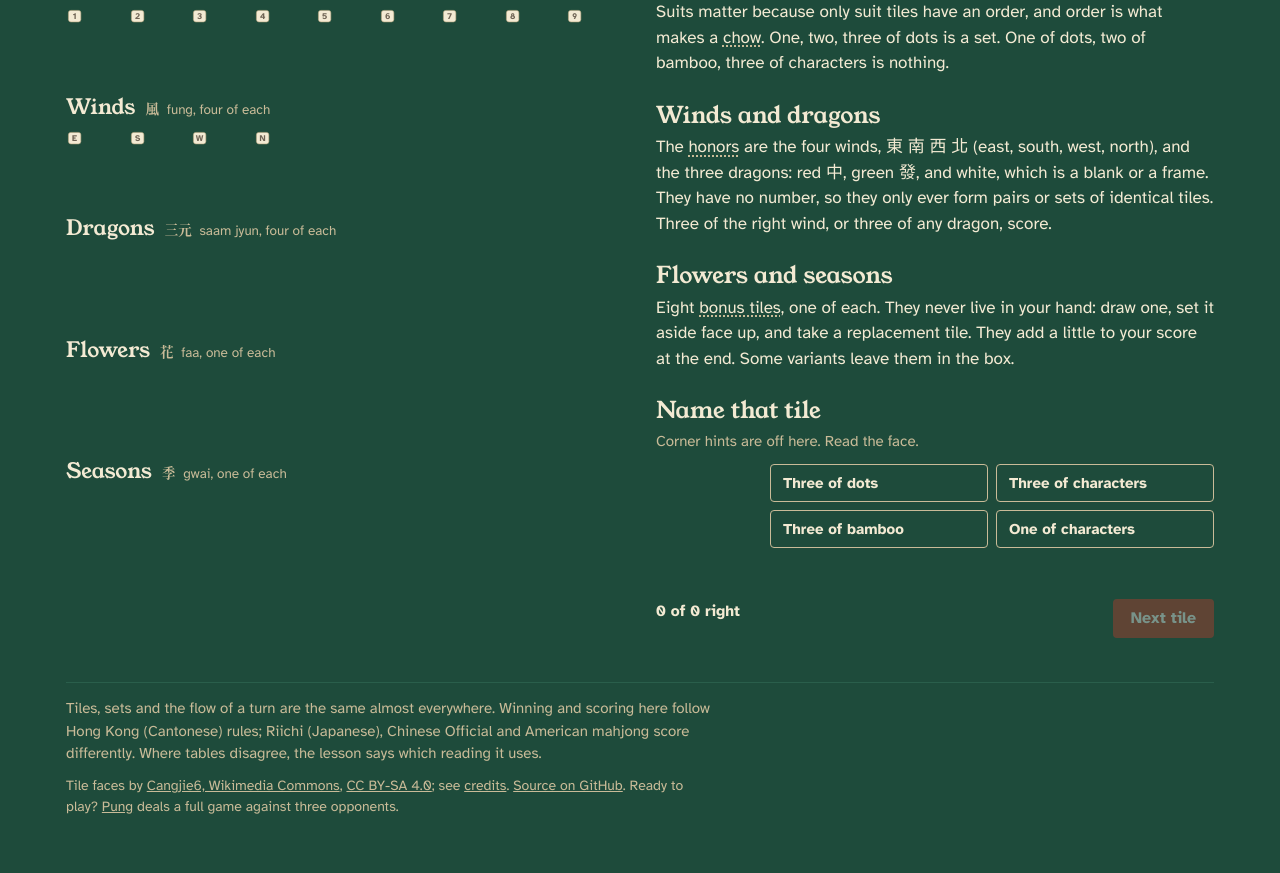
Test case: App › answers the tile quiz
(page scrolled)
What coordinates should you click on to do the following:
click the button "Three of dots"
I would click on:
 (879, 483)
Its box is [770,464,988,502].
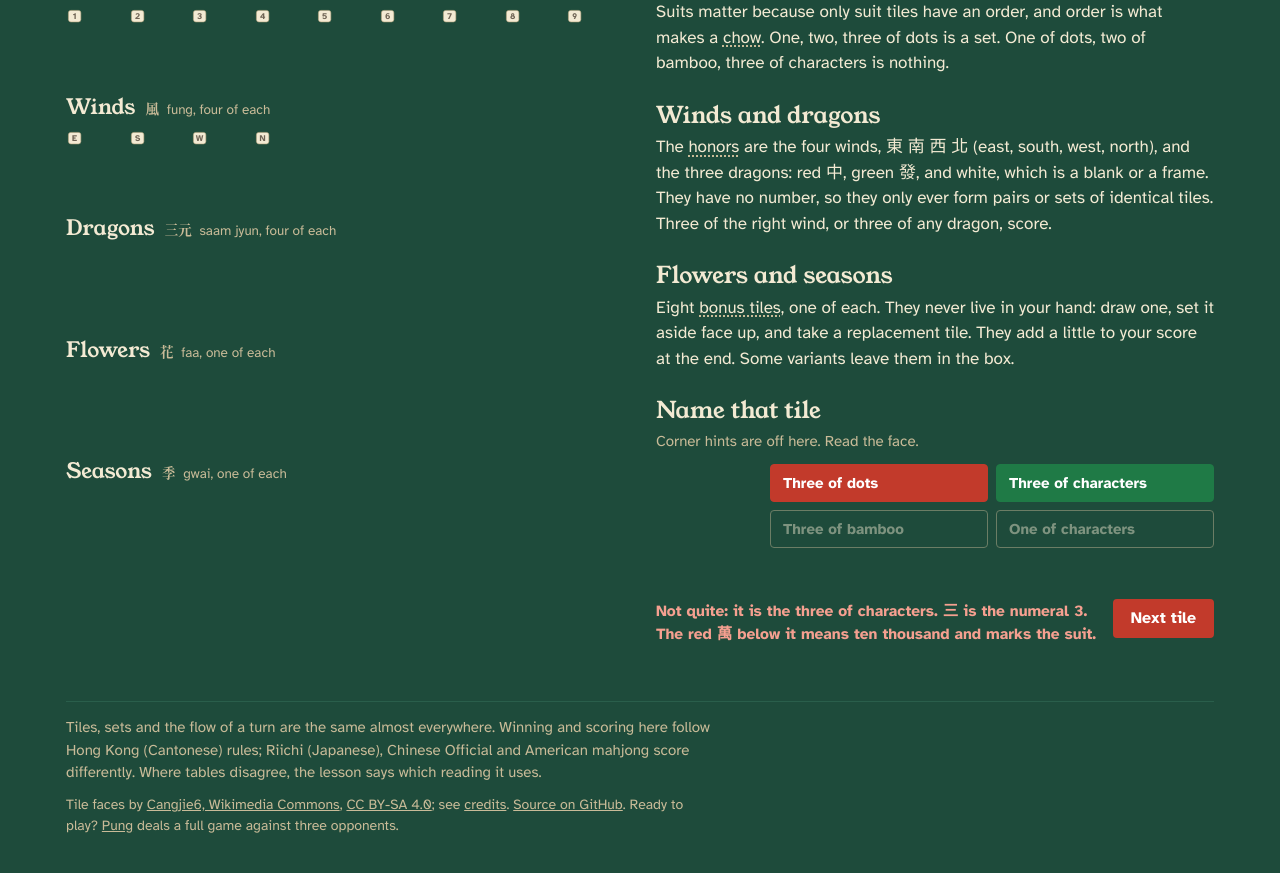
Check: the button "Next tile" is enabled, box [1113,599,1214,638]
